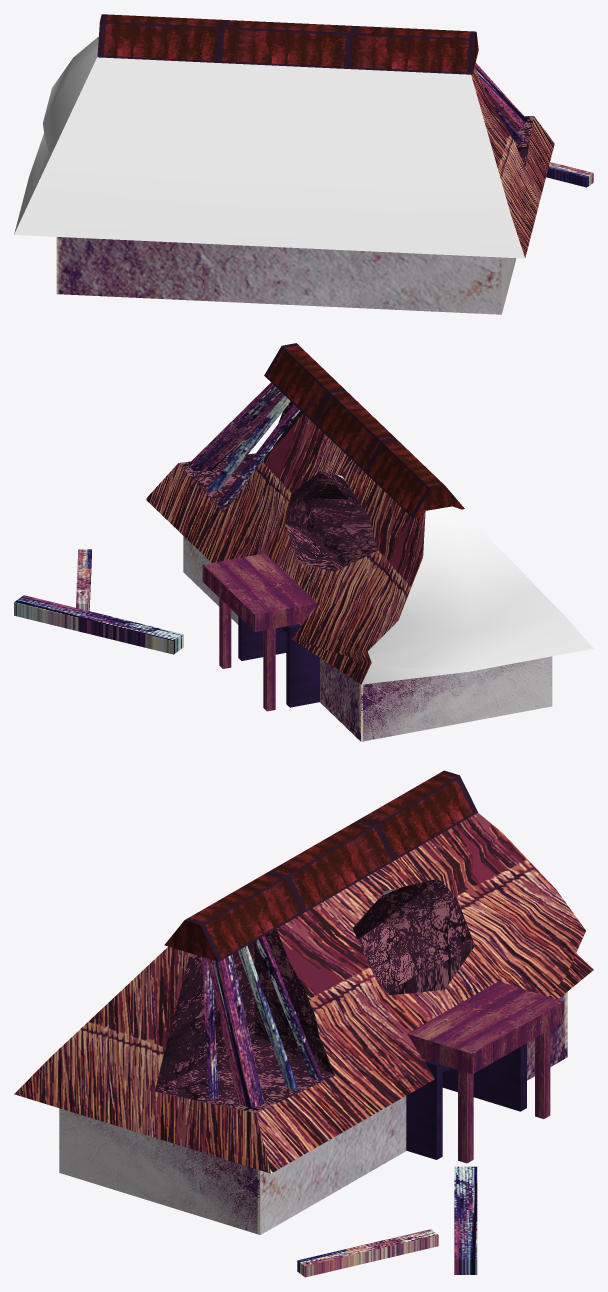
File: Obj09_Enemyhouse.fbx
The picture shows the model from 3 angles, top to bottom: view 1: azimuth 30°, elevation 25°; view 2: azimuth 150°, elevation 25°; view 3: azimuth 270°, elevation 25°; orthographic projection. The views are drawn at different scales.
Visible parts, largest first — view 1: Obj09_Enemyhouse; view 2: Obj09_Enemyhouse; view 3: Obj09_Enemyhouse.
Part boxes in pixels (bbox=[...]): Obj09_Enemyhouse: bbox=[14, 14, 593, 314]; Obj09_Enemyhouse: bbox=[14, 343, 593, 741]; Obj09_Enemyhouse: bbox=[14, 770, 593, 1277].
Bounding box in the file's own units: 5.23 × 2.08 × 4.08.
